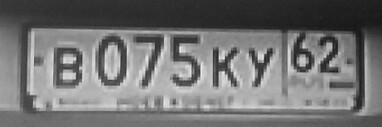license-plateSW: (26, 22, 366, 102)
